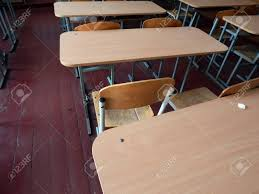desk: (58, 25, 229, 133), (54, 0, 168, 31)
